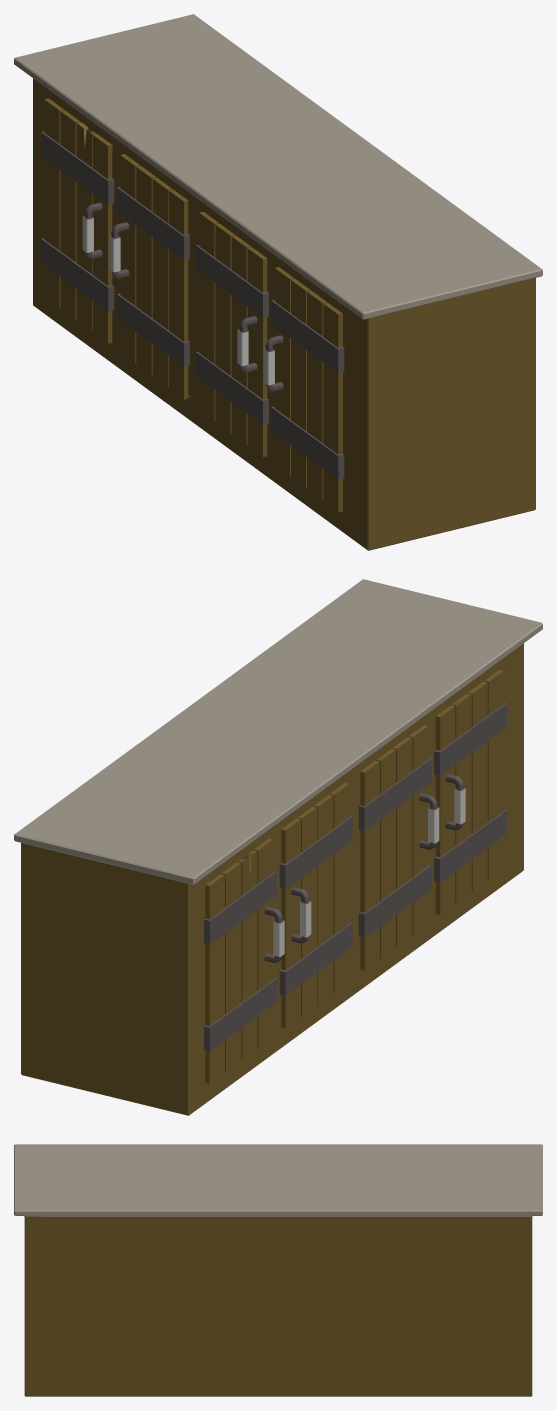
The model's file is Cabinet.fbx.
3 views of the same model, one above another, from view 1: azimuth 30°, elevation 25°; view 2: azimuth 150°, elevation 25°; view 3: azimuth 270°, elevation 25° (orthographic). The views are drawn at different scales.
Parts seen in each view (by area): view 1: Cabinet, CabinetDoor04, CabinetDoor03, CabinetDoor01, CabinetDoor02; view 2: Cabinet, CabinetDoor02, CabinetDoor01, CabinetDoor04, CabinetDoor03; view 3: Cabinet.
Part boxes in pixels (bbox=[...]): Cabinet: bbox=[14, 14, 542, 550]; CabinetDoor04: bbox=[109, 154, 189, 399]; CabinetDoor03: bbox=[263, 267, 344, 512]; CabinetDoor01: bbox=[41, 98, 114, 343]; CabinetDoor02: bbox=[196, 211, 268, 457]; Cabinet: bbox=[14, 579, 542, 1115]; CabinetDoor02: bbox=[358, 725, 439, 970]; CabinetDoor01: bbox=[204, 838, 284, 1083]; CabinetDoor04: bbox=[279, 782, 352, 1028]; CabinetDoor03: bbox=[434, 669, 506, 915]; Cabinet: bbox=[14, 1144, 542, 1396].
Size of the model in its own units: 0.0307 by 0.0382 by 0.0982.
